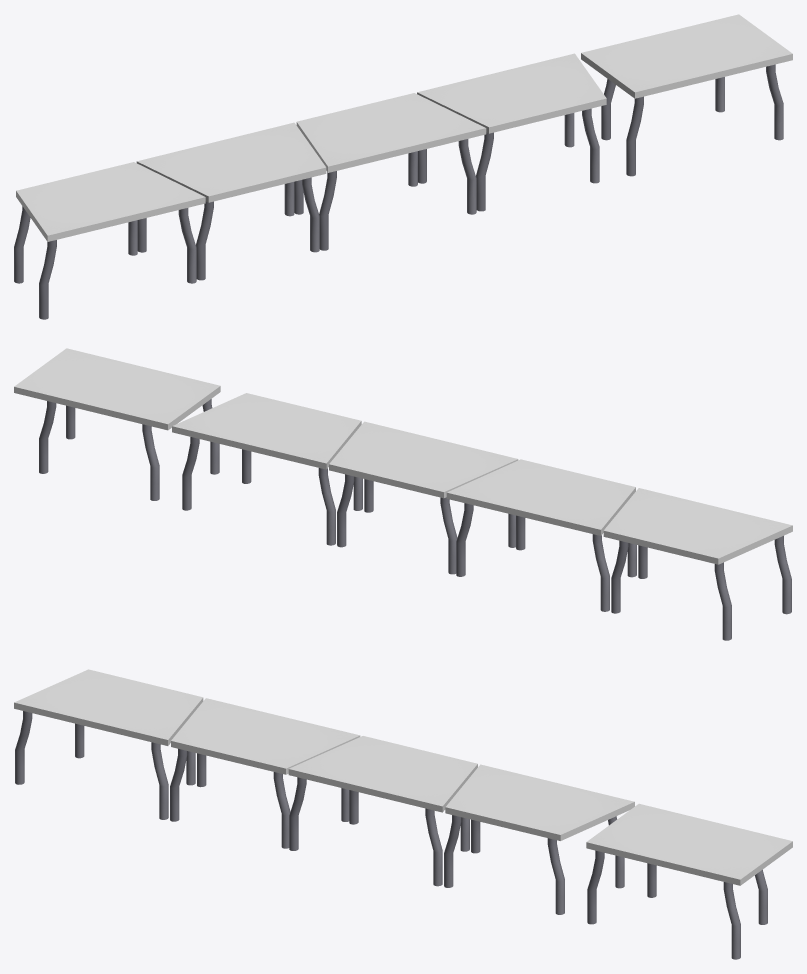
Rendered from Fila_Mesas1.obj.
3 views of the same model, one above another, from view 1: azimuth 30°, elevation 25°; view 2: azimuth 150°, elevation 25°; view 3: azimuth 330°, elevation 25° (orthographic). The views are drawn at different scales.
Parts seen in each view (by area): view 1: Box005, Box004, Box002, Box003, Box001, Tube016, Tube007, Tube017, Tube009, Tube001, Tube014, Tube006 (+5 smaller); view 2: Box005, Box004, Box003, Box001, Box002, Tube002, Tube015, Tube010, Tube016, Tube020, Tube008, Tube003 (+4 smaller); view 3: Box005, Box001, Box002, Box004, Box003, Tube019, Tube006, Tube014, Tube004, Tube017, Tube012, Tube007 (+4 smaller).
Part boxes in pixels (box(x1,y1,x2,y2)): Box005: box(581, 14, 792, 98); Box004: box(16, 162, 205, 241); Box002: box(296, 93, 486, 172); Box003: box(136, 122, 326, 202); Box001: box(417, 53, 606, 133); Tube016: box(39, 240, 56, 319); Tube007: box(319, 171, 336, 250); Tube017: box(626, 96, 643, 176); Tube009: box(196, 201, 213, 280); Tube001: box(476, 132, 493, 211); Tube014: box(178, 208, 196, 283); Tube006: box(458, 139, 476, 214); Box005: box(14, 348, 220, 430); Box004: box(603, 488, 792, 564); Box003: box(446, 459, 635, 535); Box001: box(172, 393, 361, 469); Box002: box(329, 421, 518, 498); Tube002: box(318, 468, 335, 545); Tube015: box(714, 562, 731, 640); Tube010: box(592, 534, 609, 611); Tube016: box(774, 536, 791, 614); Tube020: box(142, 424, 159, 500); Tube008: box(440, 497, 457, 574); Tube003: box(182, 437, 199, 510); Box005: box(586, 803, 792, 885); Box001: box(445, 764, 634, 840); Box002: box(288, 736, 477, 812); Box004: box(14, 669, 203, 745); Box003: box(171, 698, 360, 774); Tube019: box(723, 882, 740, 959); Tube006: box(425, 808, 442, 886); Tube014: box(151, 742, 168, 819); Tube004: box(547, 838, 564, 914); Tube017: box(587, 850, 604, 924); Tube012: box(273, 772, 290, 848); Tube007: box(289, 777, 306, 850).
Size of the model in its own units: 123 by 13.46 by 15.66.
2 materials, 2 textured.
